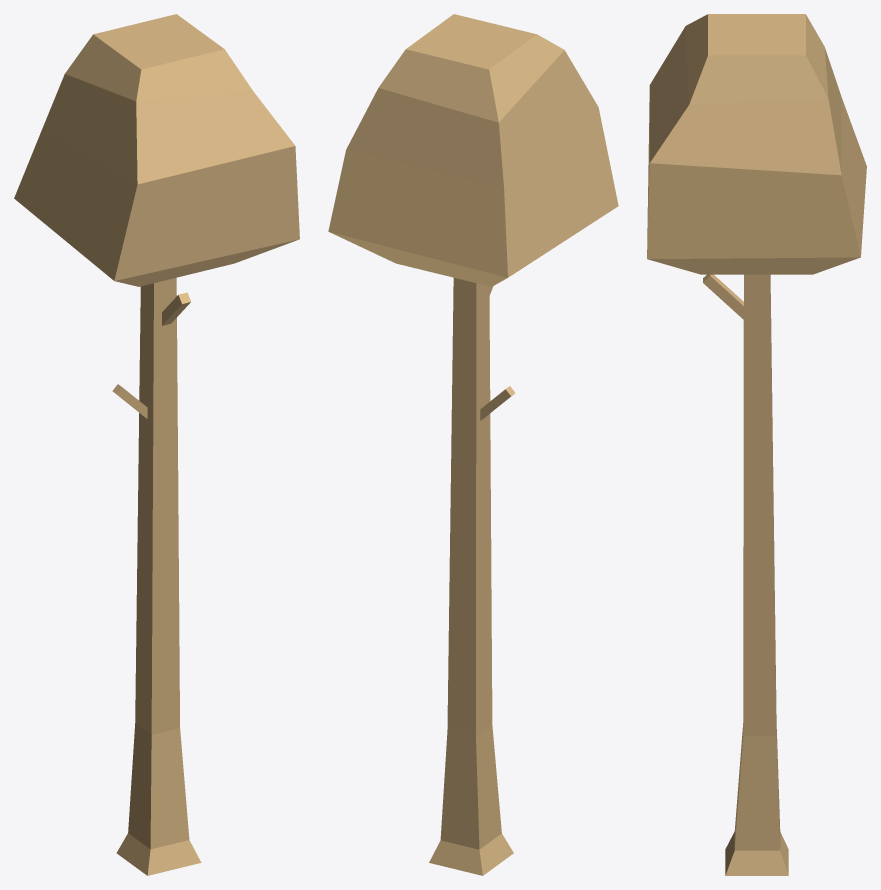
Rendered from Mega_Asset_s_Pack_Cube_059.FBX.
3 renders of one model, left to right at view 1: azimuth 30°, elevation 25°; view 2: azimuth 150°, elevation 25°; view 3: azimuth 270°, elevation 25°, orthographic.
Parts seen in each view (by area): view 1: Mega_Asset_s_Pack_Cube_059; view 2: Mega_Asset_s_Pack_Cube_059; view 3: Mega_Asset_s_Pack_Cube_059.
Boxes of the visible parts, bbox=[...] form: Mega_Asset_s_Pack_Cube_059: bbox=[14, 14, 299, 875]; Mega_Asset_s_Pack_Cube_059: bbox=[328, 14, 618, 875]; Mega_Asset_s_Pack_Cube_059: bbox=[647, 14, 866, 875].
Size of what is drawn, in the model's own units: 451 by 451 by 1871.
